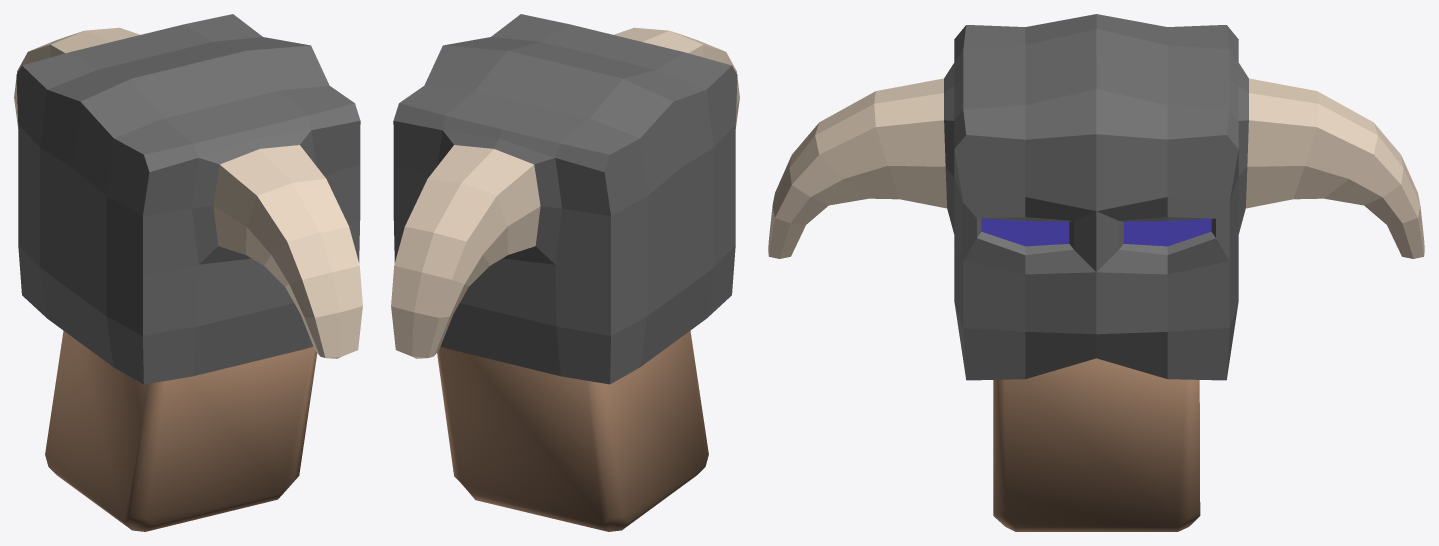
File: DovakinV4.fbx
The picture shows the model from 3 angles, left to right: view 1: azimuth 30°, elevation 25°; view 2: azimuth 150°, elevation 25°; view 3: azimuth 270°, elevation 25°; orthographic projection. The views are drawn at different scales.
Visible parts, largest first — view 1: Cube.051, Cube.049; view 2: Cube.051, Cube.049; view 3: Cube.051, Cube.049.
Part boxes in pixels (x1,y1,x2,y2): Cube.051: [14, 14, 362, 384]; Cube.049: [45, 330, 317, 531]; Cube.051: [391, 14, 739, 384]; Cube.049: [437, 330, 708, 531]; Cube.051: [768, 14, 1424, 380]; Cube.049: [993, 358, 1200, 531].
Size of the model in its own units: 40.76 by 88.56 by 66.01.
